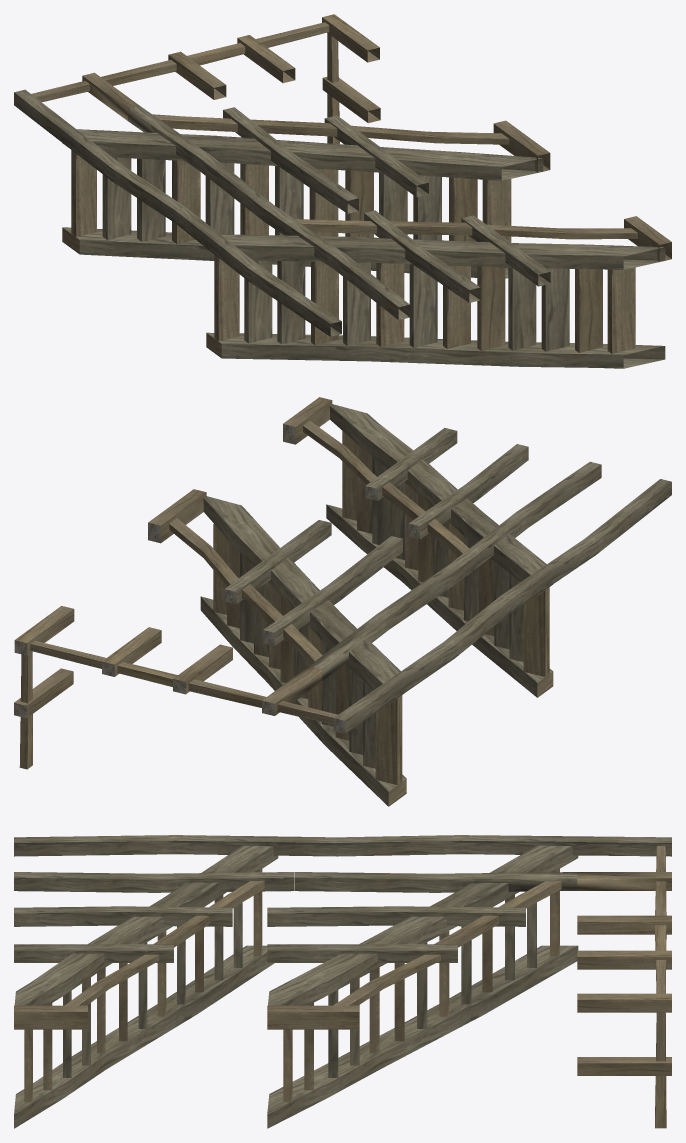
The model's file is Pirate_Bar_Stairs_B.fbx.
3 views of the same model, one above another, from view 1: azimuth 30°, elevation 25°; view 2: azimuth 150°, elevation 25°; view 3: azimuth 270°, elevation 25° (orthographic). The views are drawn at different scales.
Visible parts, largest first — view 1: Pirate_Bar_Stairs_B; view 2: Pirate_Bar_Stairs_B; view 3: Pirate_Bar_Stairs_B.
Boxes of the visible parts, x1,y1,x2,y2 form: Pirate_Bar_Stairs_B: (14,14,671,368); Pirate_Bar_Stairs_B: (14,397,671,806); Pirate_Bar_Stairs_B: (14,835,671,1128).
Bounding box in the file's own units: 6.5 × 2.24 × 10.3.
